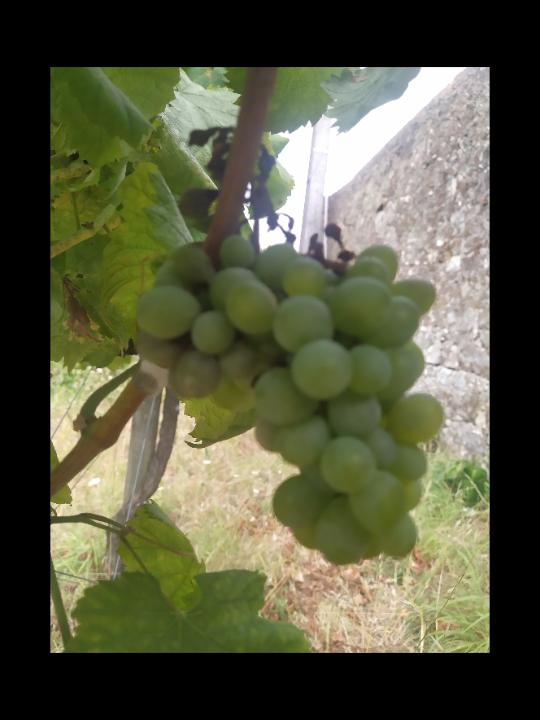grape: (132, 125, 447, 567)
